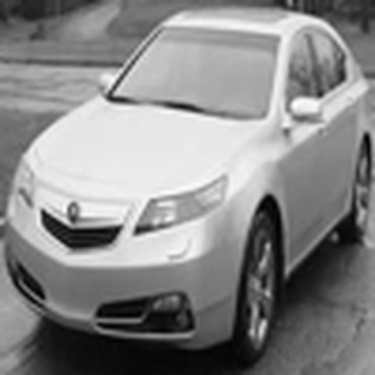car: (5, 4, 369, 370)
